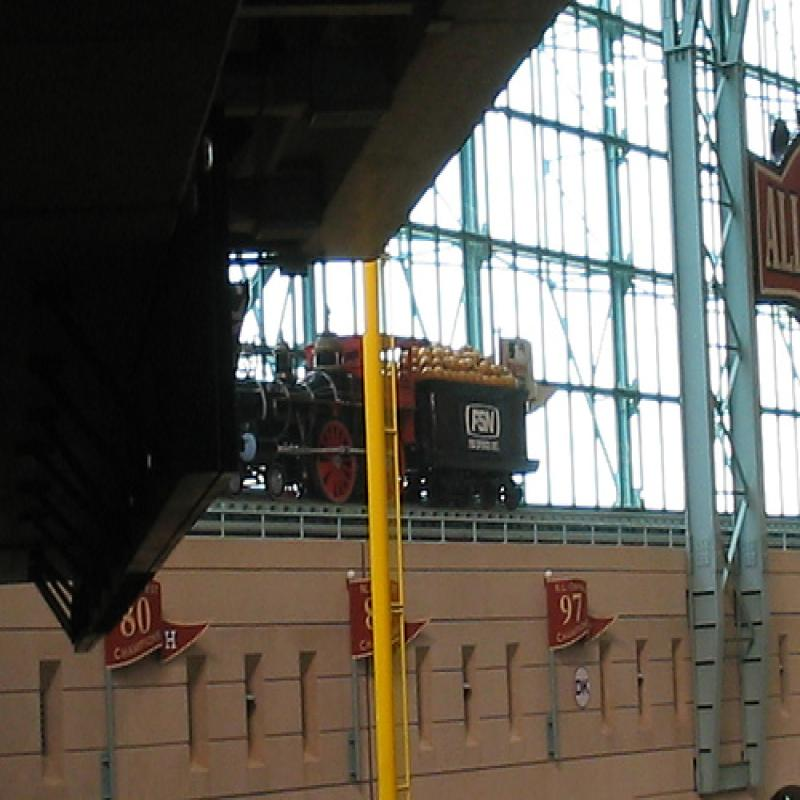train: (239, 327, 550, 511)
